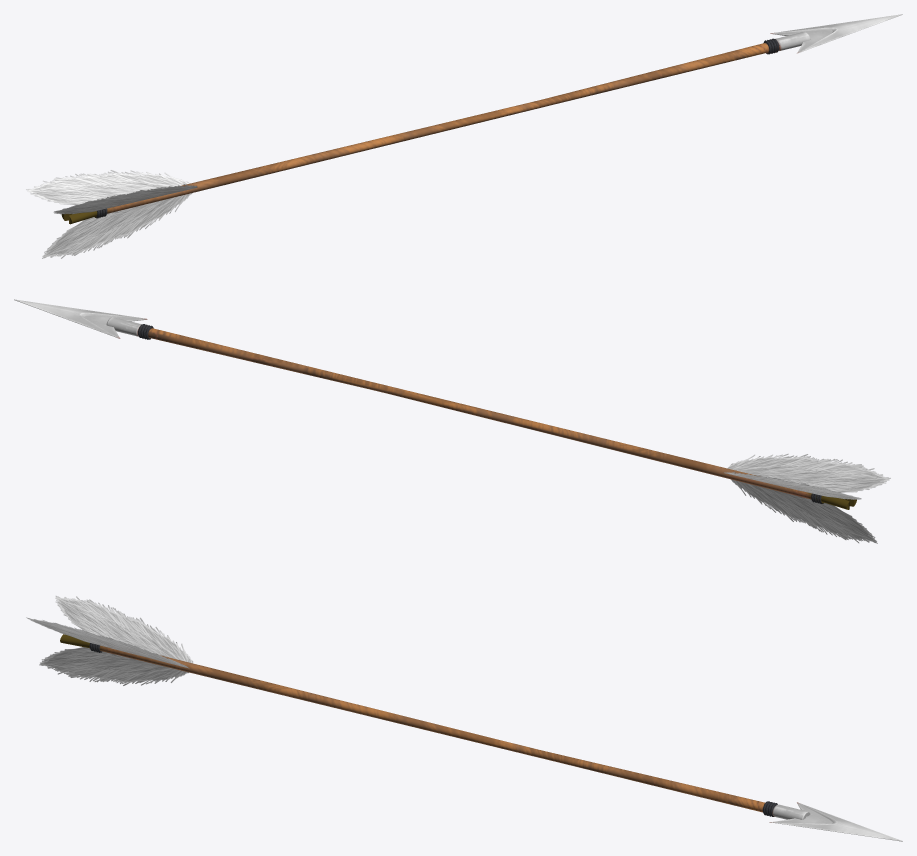
File: arrow.glb
3 renders of one model, top to bottom at view 1: azimuth 30°, elevation 25°; view 2: azimuth 150°, elevation 25°; view 3: azimuth 330°, elevation 25°, orthographic.
Visible parts, largest first — view 1: Object_3, Object_2; view 2: Object_3, Object_2; view 3: Object_3, Object_2.
Part boxes in pixels (box(x1,y1,x2,y2)): Object_3: box(61, 14, 902, 224); Object_2: box(26, 170, 197, 258); Object_3: box(14, 299, 856, 509); Object_2: box(724, 454, 890, 543); Object_3: box(60, 634, 902, 841); Object_2: box(26, 596, 193, 685).
Size of the model in its own units: 5.82 by 0.477 by 0.45.
Materials: 2 (2 with a texture image).
